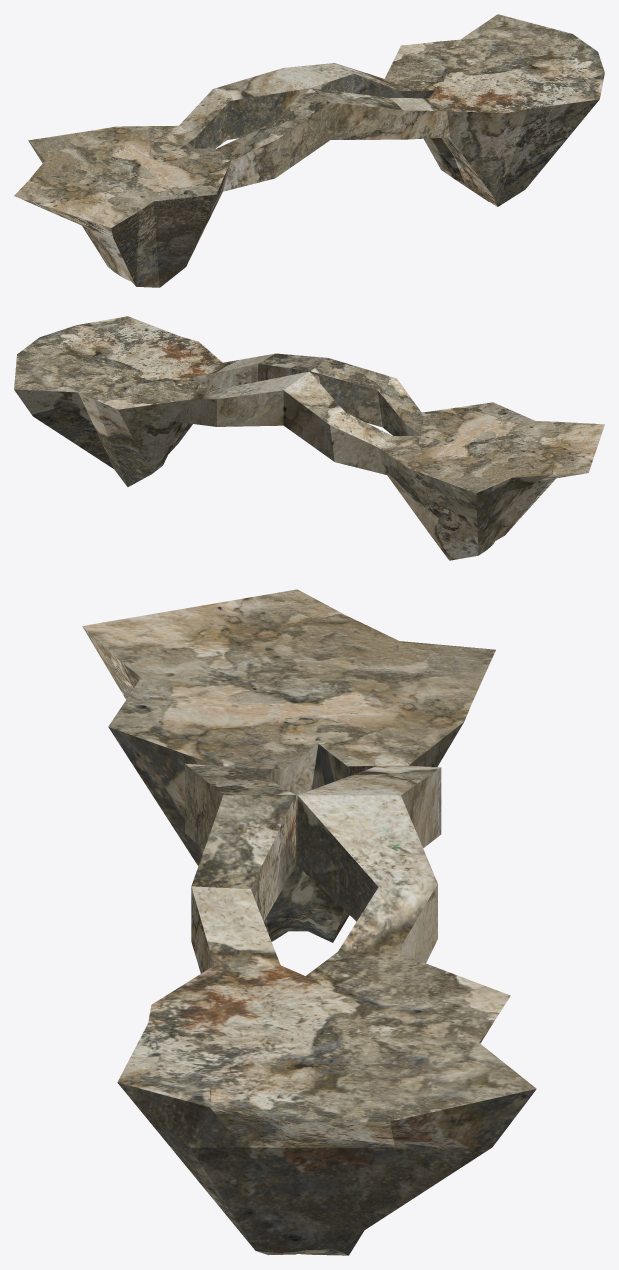
File: map.fbx
3 views of the same model, one above another, from view 1: azimuth 30°, elevation 25°; view 2: azimuth 150°, elevation 25°; view 3: azimuth 270°, elevation 25° (orthographic). The views are drawn at different scales.
Parts seen in each view (by area): view 1: ground; view 2: ground; view 3: ground.
Boxes of the visible parts, x1,y1,x2,y2 form: ground: (14,14,604,287); ground: (14,316,604,560); ground: (82,589,536,1255).
Bounding box in the file's own units: 481 × 124 × 172.
1 material, 1 textured.
